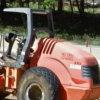Tractor: (9, 4, 88, 100)
